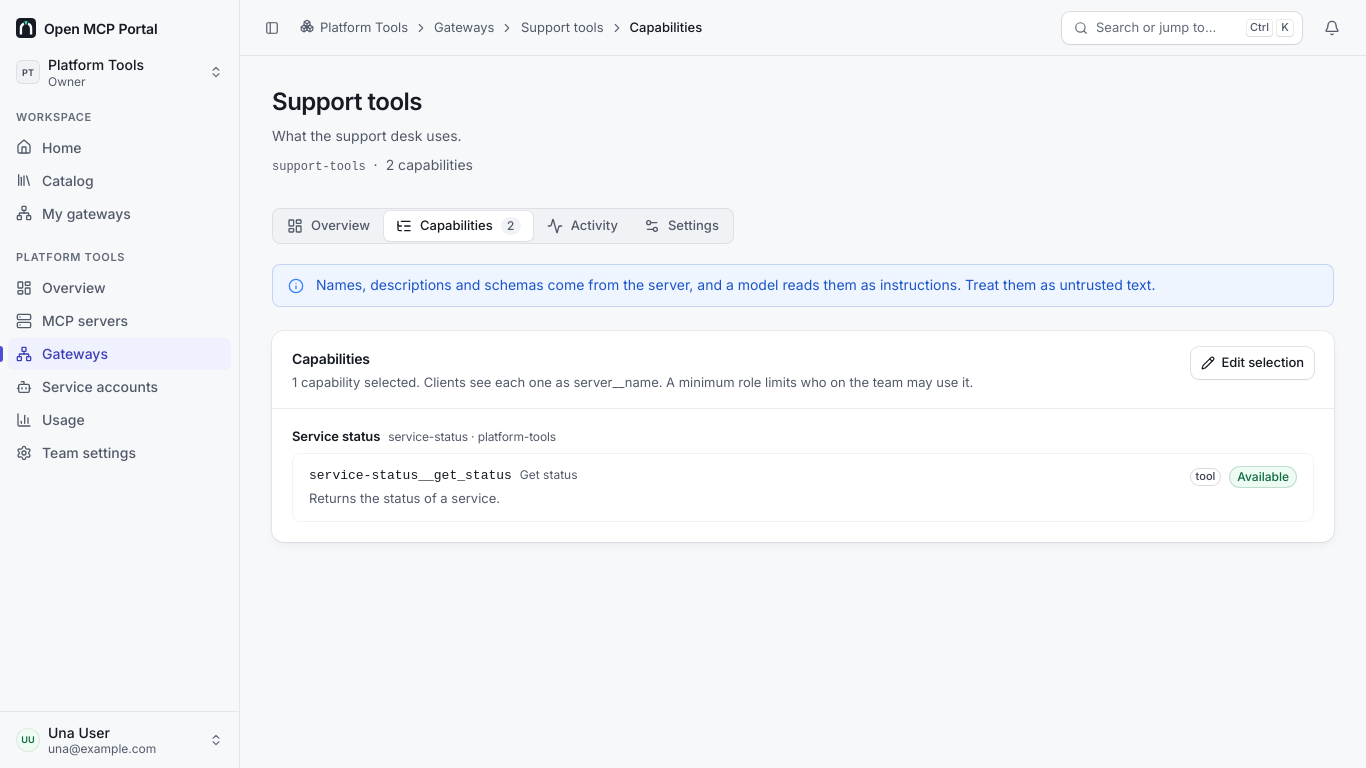
Test: Gateway › Capabilities › says which name clashes, and when there are too many
Step 1. Click the button "Edit selection" → (1253, 363), box [1191,347,1314,379]
(page scrolled)
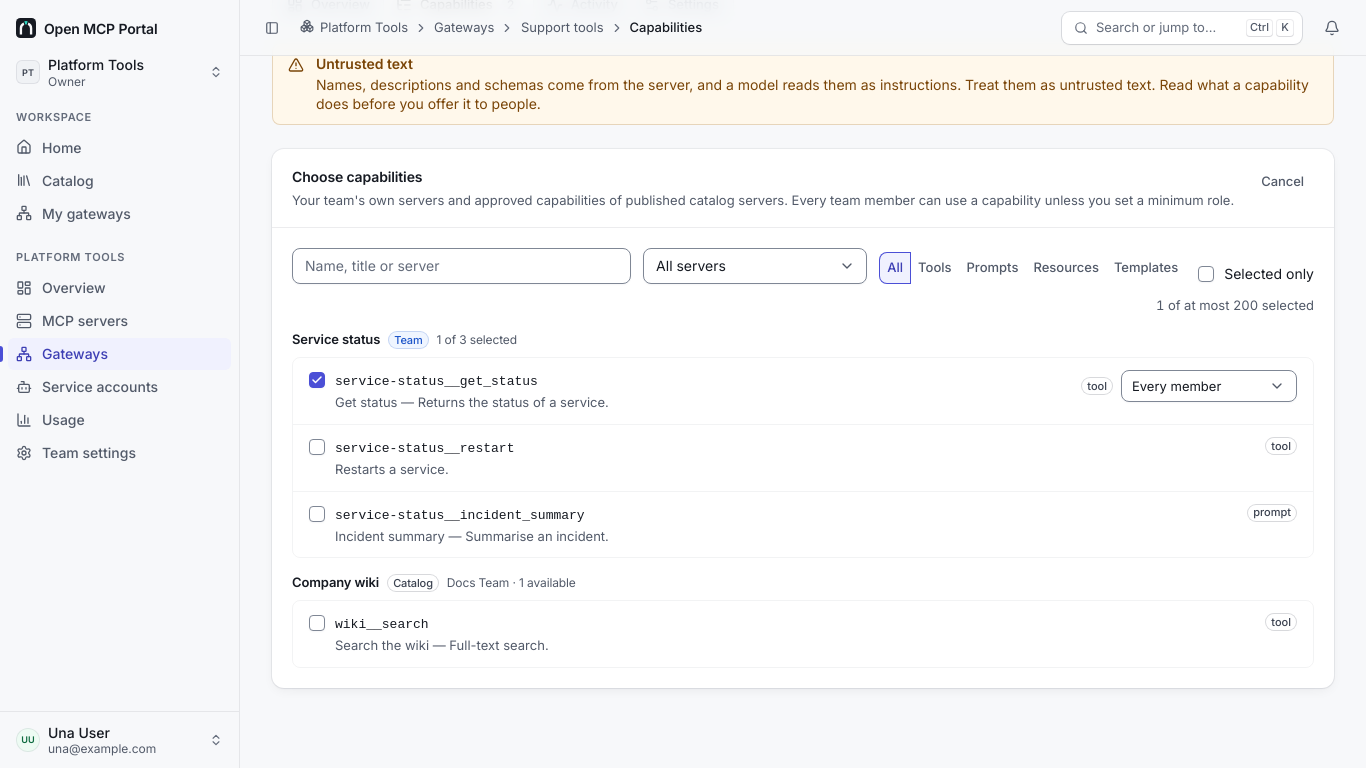
Step 2. Click the checkbox named "wiki__search" next to "wiki__search" → (317, 623), box [309,615,325,631]
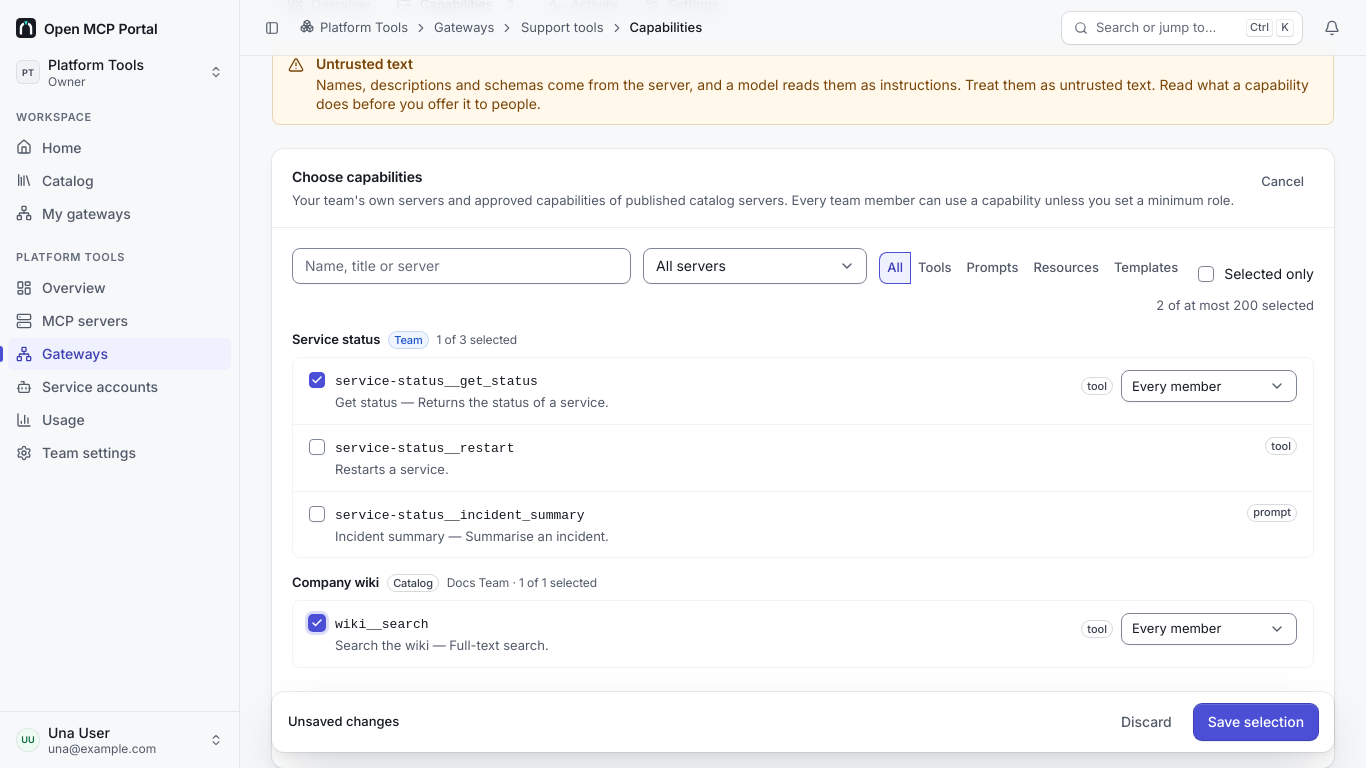
Step 3. Click the button "Save selection" → (1256, 722), box [1194,704,1318,740]
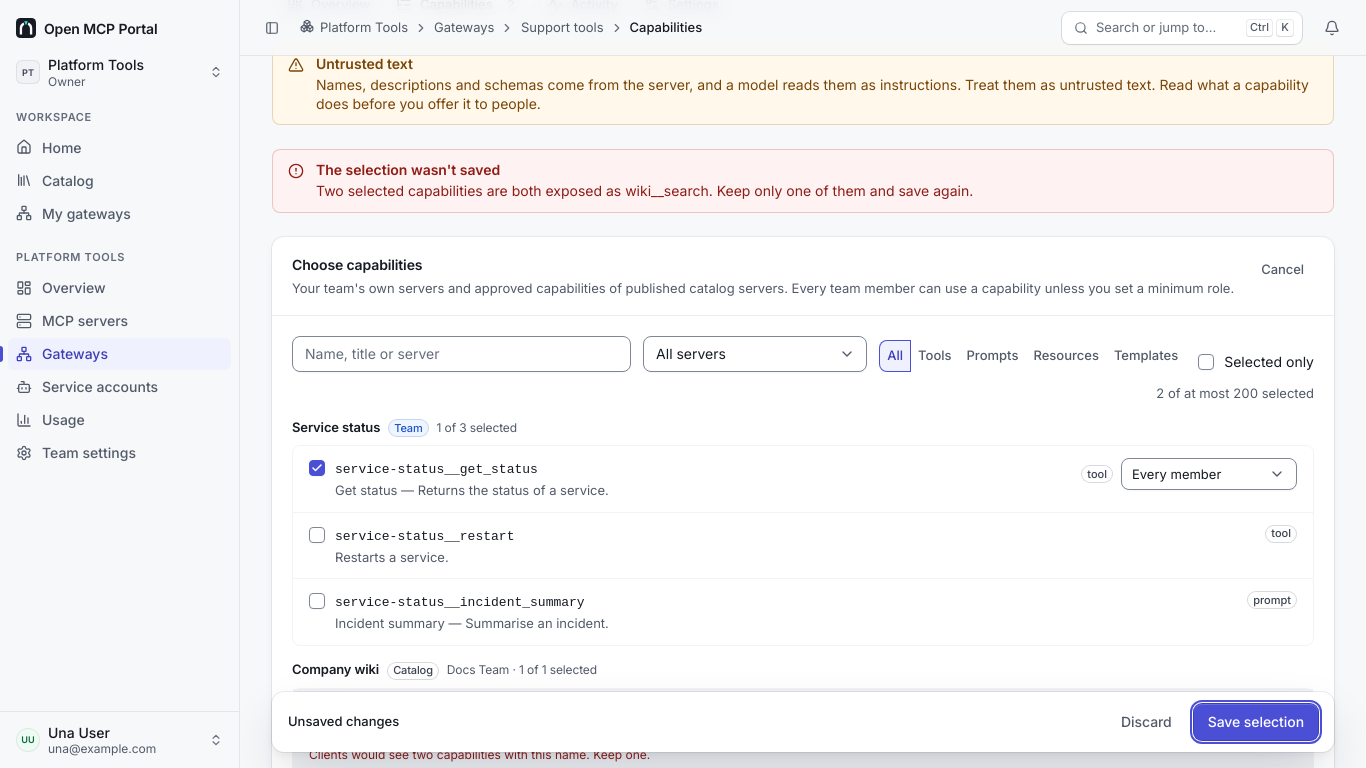
Expected: the text "Two selected capabilities are both exposed as wiki__search. Keep only one of them and save again." is shown, [316,182,973,199]
Expected: the text "Clients would see two capabilities with this name. Keep one." is shown, [309,747,650,762]
Step 4. Click the checkbox named "service-status__restart" next to "service-status__restart" → (317, 535), box [309,527,325,543]
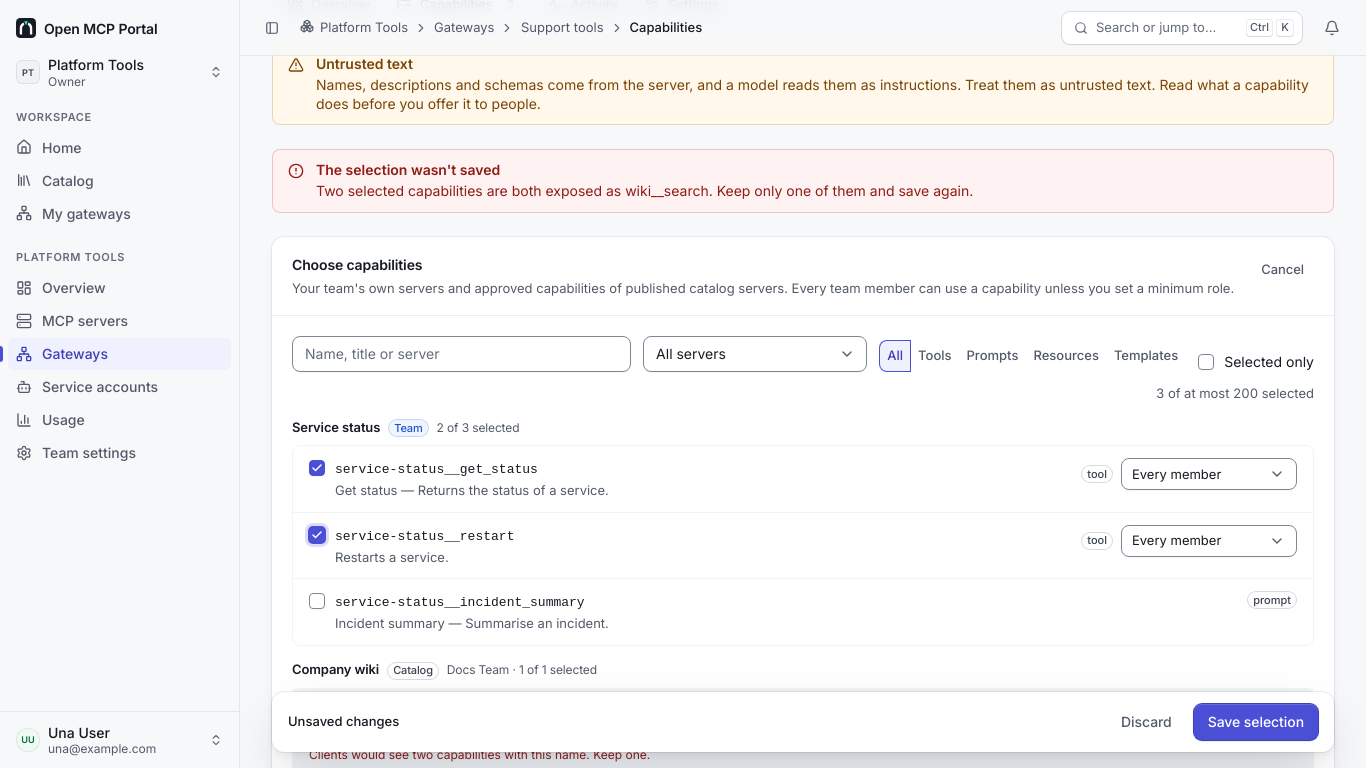
Step 5. Click the button "Save selection" → (1256, 722), box [1194,704,1318,740]
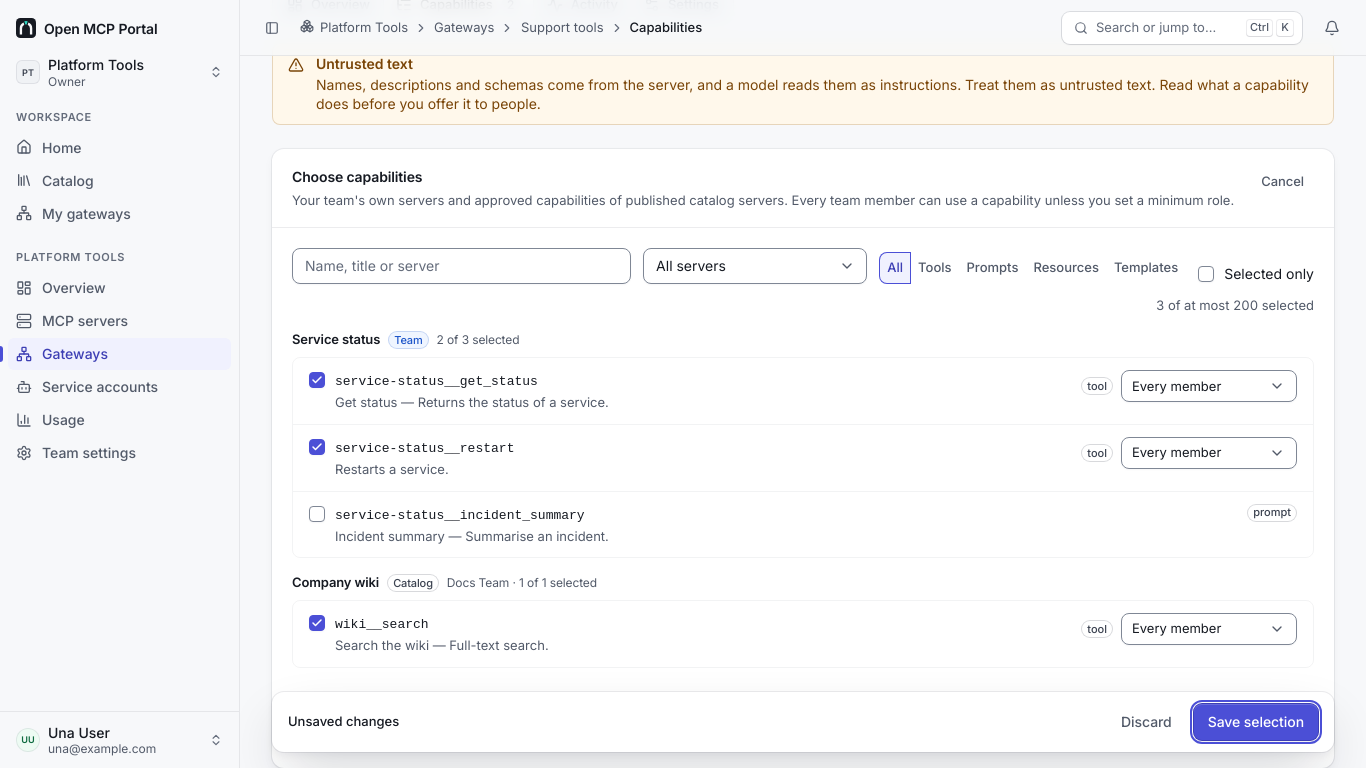
Expected: the text "both exposed as" is gone
